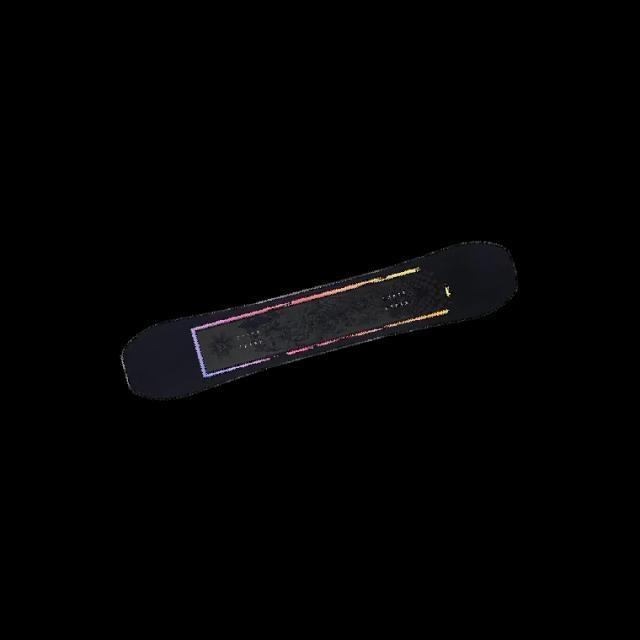Snowboard: (119, 238, 519, 401)
